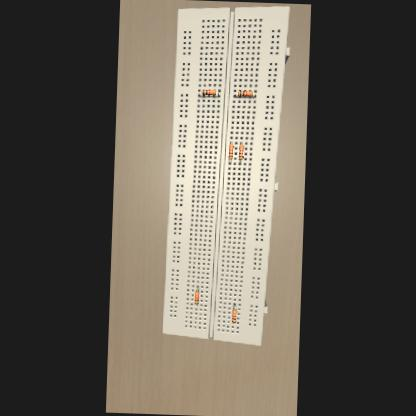breadboard: (161, 2, 291, 346)
resistor: (201, 89, 215, 95), (228, 144, 234, 158), (238, 144, 244, 158), (238, 90, 252, 96), (194, 289, 198, 304), (233, 308, 236, 322)
wire: (234, 92, 238, 96), (216, 92, 219, 96), (238, 158, 240, 164), (196, 285, 198, 290), (198, 92, 200, 96), (234, 303, 235, 309), (253, 93, 255, 96), (229, 158, 230, 163), (232, 322, 234, 324), (241, 142, 242, 144), (195, 304, 196, 305)
